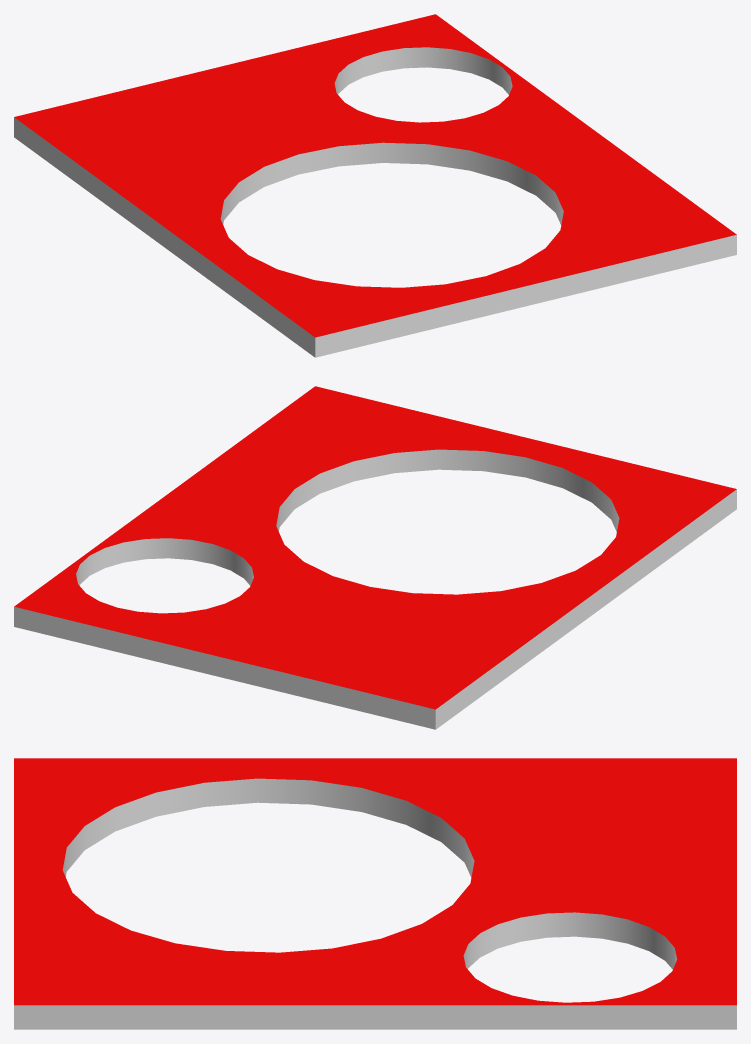
Rendered from window.dae.
The picture shows the model from 3 angles, top to bottom: view 1: azimuth 30°, elevation 25°; view 2: azimuth 150°, elevation 25°; view 3: azimuth 270°, elevation 25°; orthographic projection. The views are drawn at different scales.
Visible parts, largest first — view 1: SketchUp (×4); view 2: SketchUp (×4); view 3: SketchUp (×4).
Part boxes in pixels (x1,y1,x2,y2): SketchUp (×4): [14, 14, 736, 357]; SketchUp (×4): [14, 386, 736, 729]; SketchUp (×4): [14, 758, 736, 1029].
Bounding box in the file's own units: 60.24 × 74.53 × 2.76.
